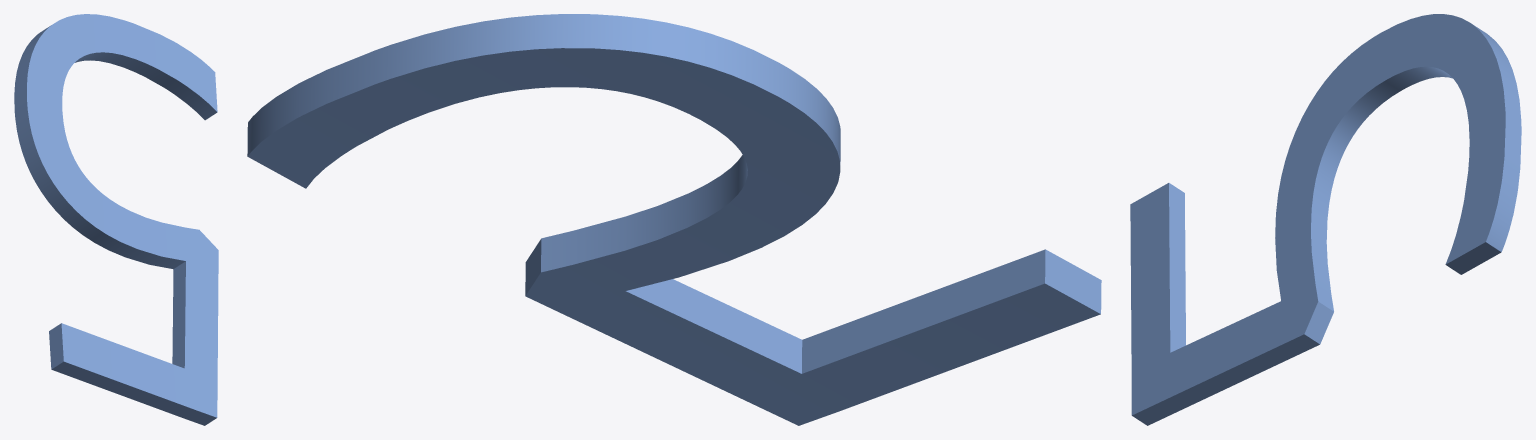
Rendered from New_Number_5.gltf.
3 views of the same model, side by side, from view 1: azimuth 30°, elevation 25°; view 2: azimuth 150°, elevation 25°; view 3: azimuth 270°, elevation 25° (orthographic). The views are drawn at different scales.
Visible parts, largest first — view 1: Part 212; view 2: Part 212; view 3: Part 212.
Boxes of the visible parts, box(x1,y1,x2,y2) form: Part 212: box(14, 14, 218, 425); Part 212: box(247, 14, 1101, 425); Part 212: box(1130, 14, 1521, 425).
Bounding box in the file's own units: 0.00459 × 0.00455 × 0.00416.
